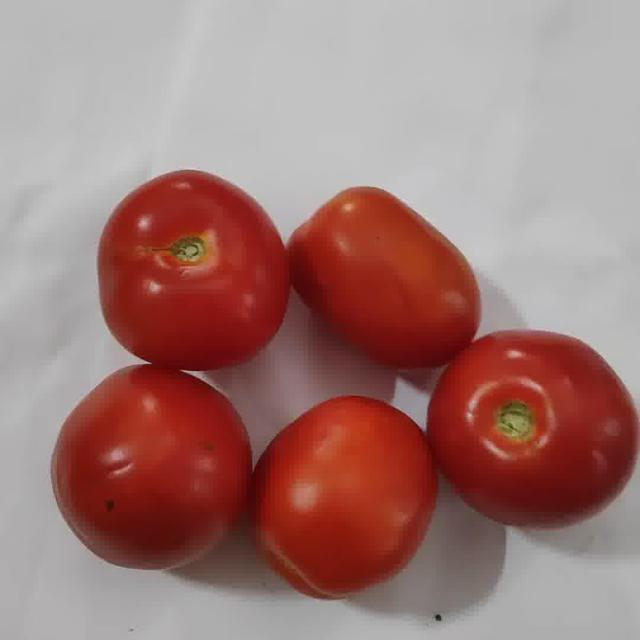Tomato: (51, 365, 252, 568), (428, 331, 638, 524), (99, 171, 289, 370), (254, 396, 436, 597), (286, 187, 480, 370)
